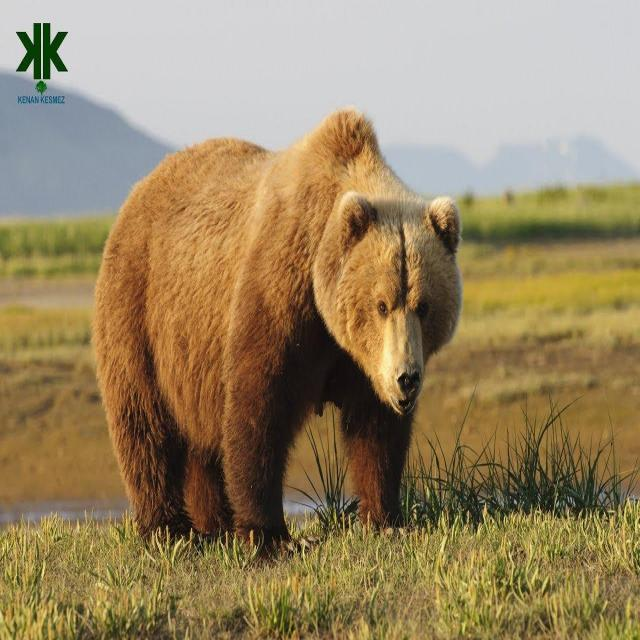Bear: (92, 108, 464, 552)
